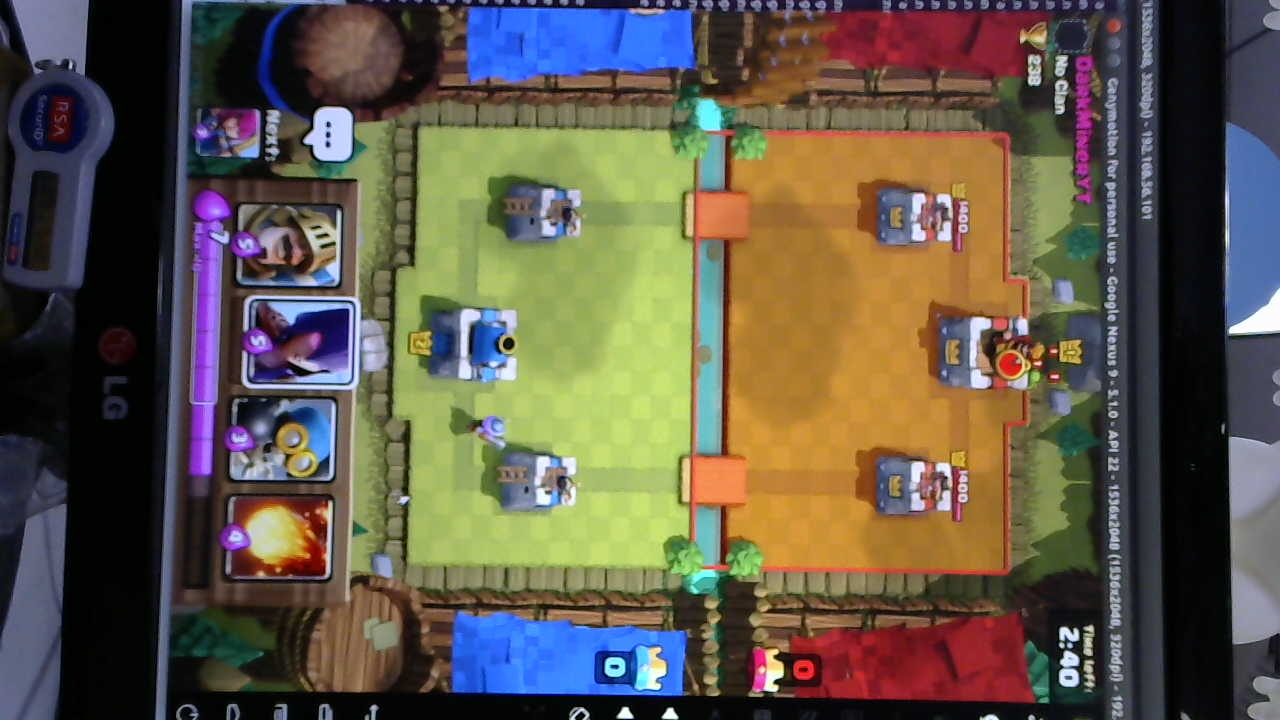arena: (508, 455, 579, 512), (511, 185, 584, 240)
earena: (875, 455, 957, 513), (877, 189, 954, 249)
eking: (939, 314, 1038, 389)
goblin: (1021, 369, 1056, 396)
king: (434, 307, 520, 380)
musketeer: (465, 414, 511, 449)
